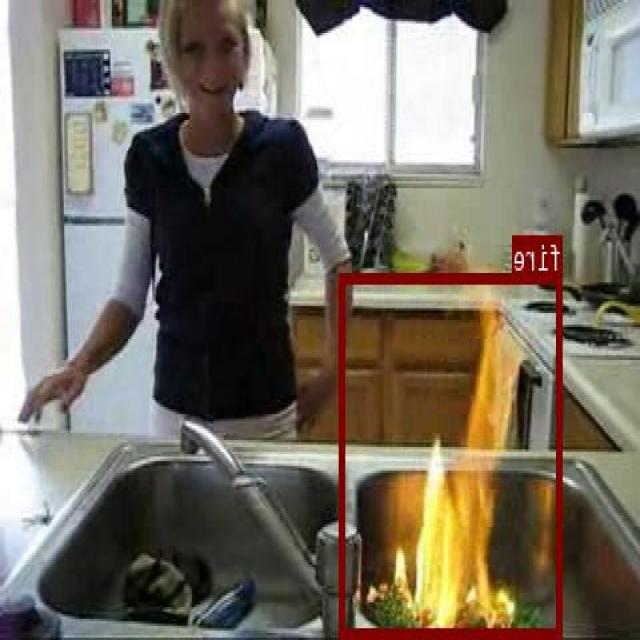fire: (342, 273, 564, 635)
